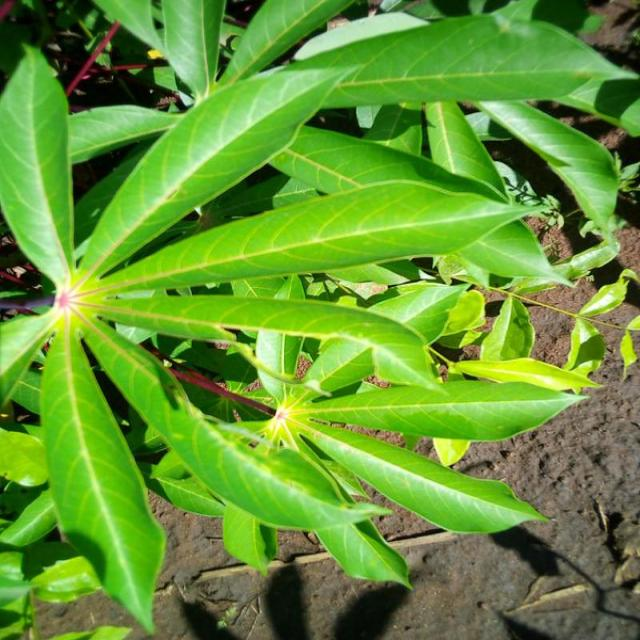cassava leaf: (1, 2, 637, 634)
